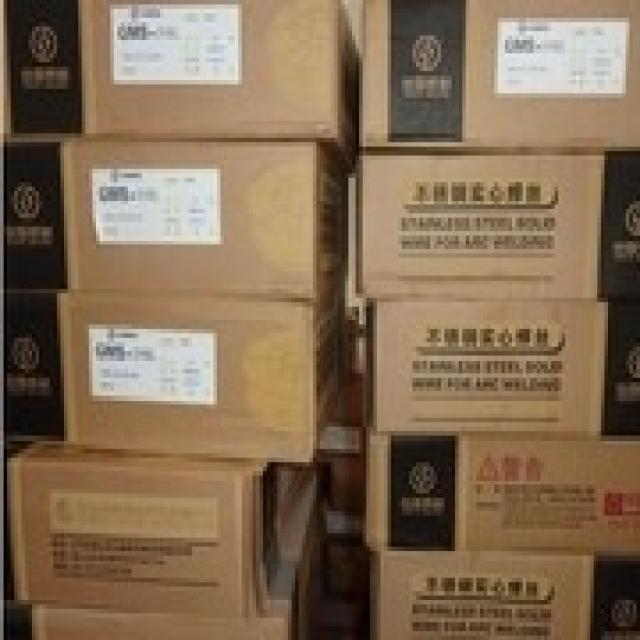box: (32, 467, 327, 640), (7, 444, 288, 622), (60, 289, 348, 458), (78, 0, 359, 173), (64, 142, 348, 298), (356, 147, 636, 298), (359, 0, 636, 151), (363, 422, 640, 556), (373, 298, 640, 436), (370, 547, 640, 640), (4, 4, 78, 138), (4, 289, 68, 440), (4, 138, 64, 289)
